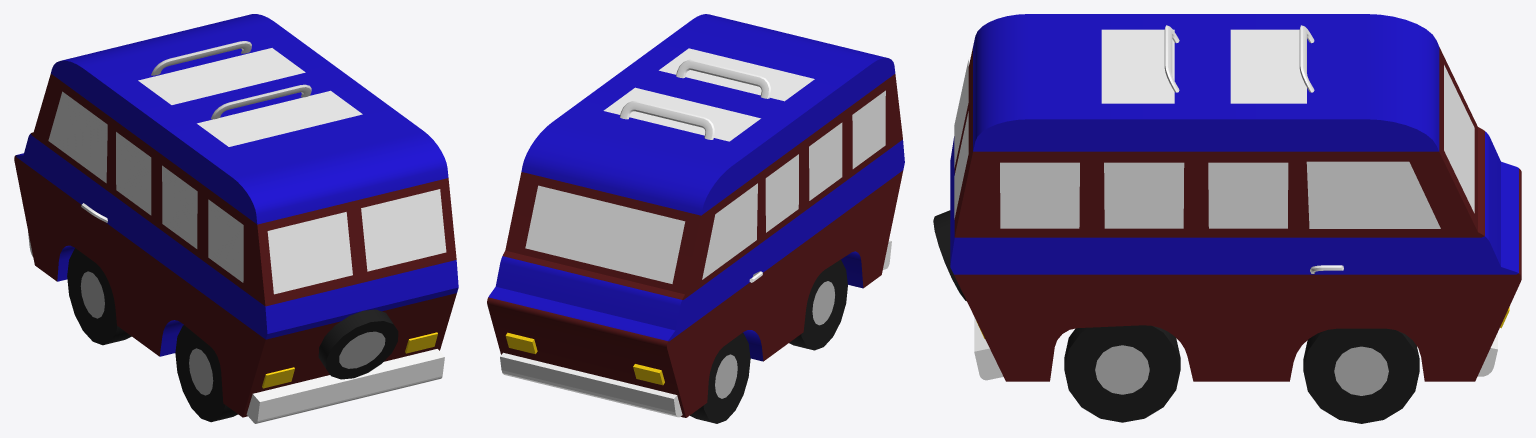
Rendered from чехия_дляигры.fbx.
3 views of the same model, side by side, from view 1: azimuth 30°, elevation 25°; view 2: azimuth 150°, elevation 25°; view 3: azimuth 270°, elevation 25° (orthographic). The views are drawn at different scales.
Visible parts, largest first — view 1: Cube, Plane.007, Cube.002, Plane.004, Plane.003, Plane, Plane.001, Cylinder.006, Cylinder.001, Cylinder, Plane.002, Cylinder.005 (+3 smaller); view 2: Cube, Plane.005, Plane.007, Cube.001, Plane, Cylinder.001, Cylinder, Plane.001, Plane.002, Cylinder.004, Cylinder.005, Cube.003 (+1 smaller); view 3: Cube, Plane.007, Cylinder, Cylinder.001, Plane.002, Plane, Plane.001, Plane.005, Cube.002, Cylinder.006, Plane.004, Plane.003 (+2 smaller).
Boxes of the visible parts, x1=… form: Cube: x1=14, y1=14, x2=458, y2=417; Plane.007: x1=116, y1=132, x2=243, y2=282; Cube.002: x1=246, y1=349, x2=444, y2=423; Plane.004: x1=361, y1=189, x2=446, y2=271; Plane.003: x1=267, y1=212, x2=352, y2=294; Plane: x1=138, y1=48, x2=305, y2=104; Plane.001: x1=197, y1=90, x2=362, y2=146; Cylinder.006: x1=318, y1=309, x2=398, y2=379; Cylinder.001: x1=67, y1=248, x2=131, y2=345; Cylinder: x1=175, y1=325, x2=237, y2=422; Plane.002: x1=48, y1=91, x2=107, y2=183; Cylinder.005: x1=211, y1=84, x2=311, y2=119; Cube: x1=487, y1=14, x2=904, y2=417; Plane.005: x1=525, y1=185, x2=685, y2=283; Plane.007: x1=765, y1=90, x2=885, y2=232; Cube.001: x1=500, y1=352, x2=682, y2=417; Plane: x1=603, y1=87, x2=760, y2=141; Cylinder.001: x1=690, y1=332, x2=750, y2=423; Cylinder: x1=789, y1=259, x2=847, y2=350; Plane.001: x1=659, y1=48, x2=814, y2=101; Plane.002: x1=702, y1=183, x2=757, y2=279; Cylinder.004: x1=620, y1=101, x2=714, y2=139; Cylinder.005: x1=676, y1=59, x2=770, y2=98; Cube.003: x1=505, y1=332, x2=537, y2=354; Cube: x1=950, y1=14, x2=1521, y2=381; Plane.007: x1=1000, y1=162, x2=1288, y2=228; Cylinder: x1=1064, y1=325, x2=1180, y2=422; Cylinder.001: x1=1303, y1=328, x2=1419, y2=423; Plane.002: x1=1306, y1=161, x2=1440, y2=228; Plane: x1=1230, y1=29, x2=1306, y2=103; Plane.001: x1=1101, y1=29, x2=1174, y2=103; Plane.005: x1=1444, y1=65, x2=1474, y2=213; Cube.002: x1=974, y1=317, x2=1003, y2=380; Cylinder.006: x1=933, y1=210, x2=966, y2=300; Plane.004: x1=954, y1=111, x2=968, y2=219; Plane.003: x1=954, y1=60, x2=968, y2=167.
Size of the model in its own units: 134 by 172 by 279.
